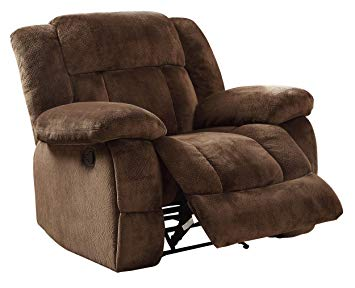chairs: (8, 11, 346, 273)
